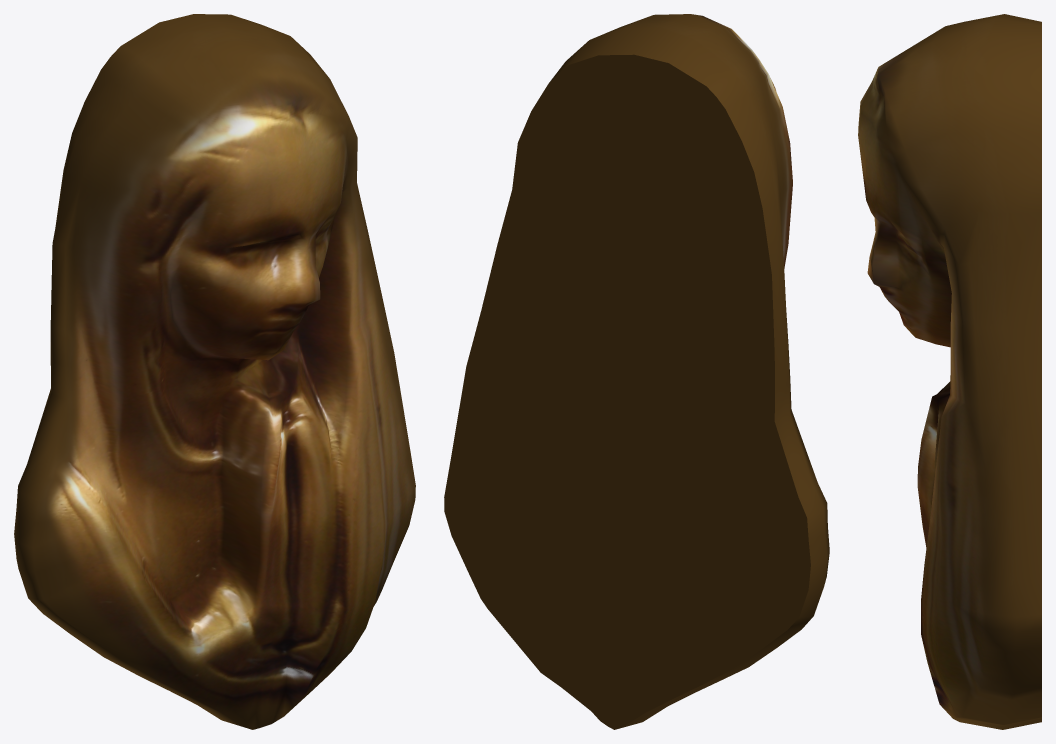
The model's file is Art2735.fbx.
3 views of the same model, side by side, from view 1: azimuth 30°, elevation 25°; view 2: azimuth 150°, elevation 25°; view 3: azimuth 270°, elevation 25° (orthographic). The views are drawn at different scales.
Visible parts, largest first — view 1: Mesh_2; view 2: Mesh_2; view 3: Mesh_2.
Boxes of the visible parts, x1,y1,x2,y2 form: Mesh_2: [14, 14, 415, 729]; Mesh_2: [444, 14, 829, 729]; Mesh_2: [858, 14, 1041, 729].
Size of the model in its own units: 5.48 by 9.56 by 2.33.
Materials: 1 (1 with a texture image).
